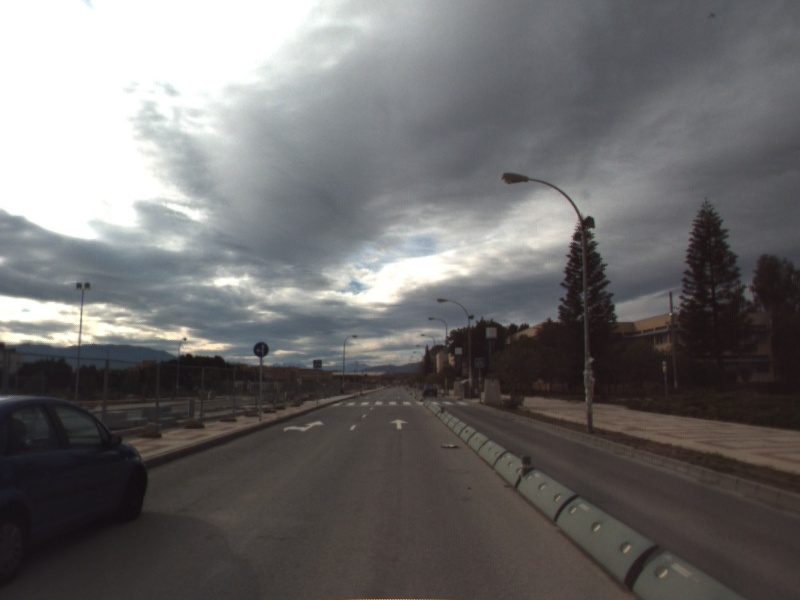STRAIGHT: (388, 417, 411, 431)
STRAIGHT_LEFT: (281, 418, 326, 434)
